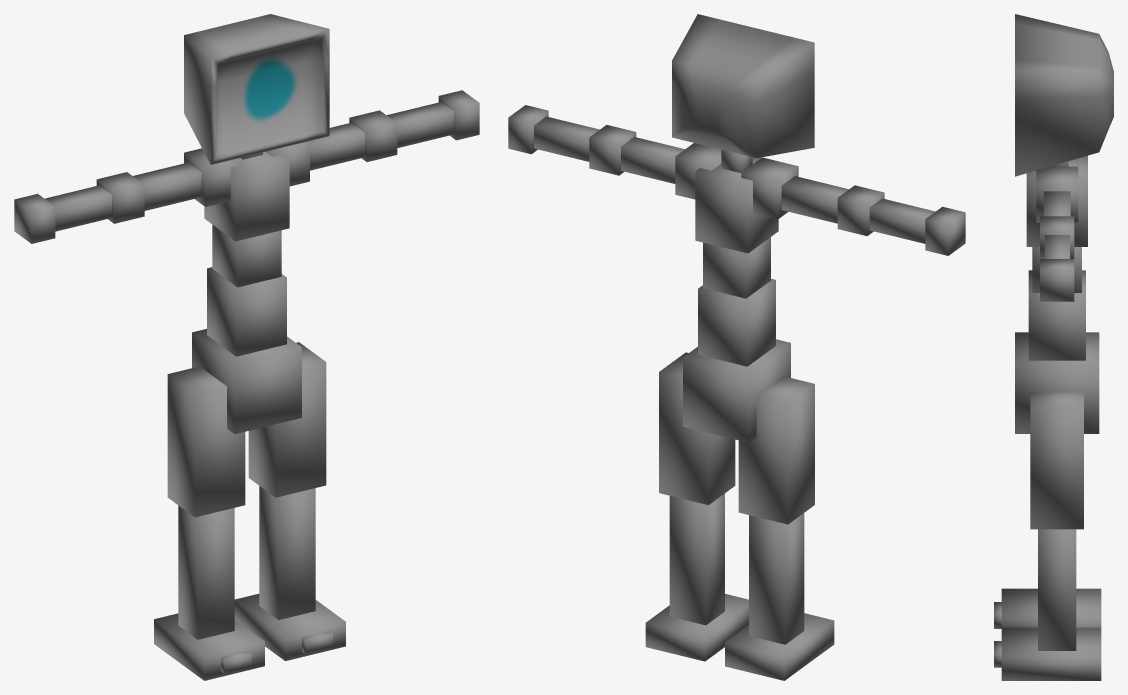
The model's file is RobotTVhead 1.fbx.
3 renders of one model, left to right at view 1: azimuth 30°, elevation 25°; view 2: azimuth 150°, elevation 25°; view 3: azimuth 270°, elevation 25°, orthographic.
Visible parts, largest first — view 1: Blockman; view 2: Blockman; view 3: Blockman.
Boxes of the visible parts, left/top/right/bottom form: Blockman: left=14, top=14, right=479, bottom=680; Blockman: left=508, top=14, right=965, bottom=680; Blockman: left=994, top=14, right=1113, bottom=680.
Size of the model in its own units: 13300 by 17440 by 3131.
2 materials, 2 textured.
